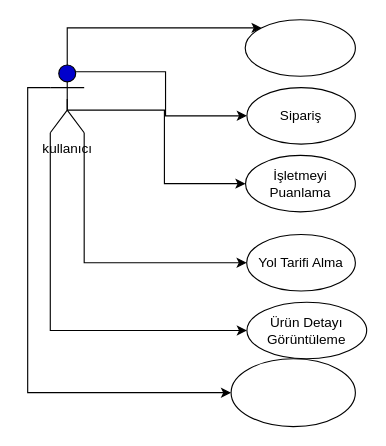
Image size: 386x446. Some labels were removed from this diagram. Each missing label, with the box of its shape:
Ürün arama: (244, 19, 355, 76)
Ürün hakkında mesaj gönderme: (230, 358, 355, 427)
